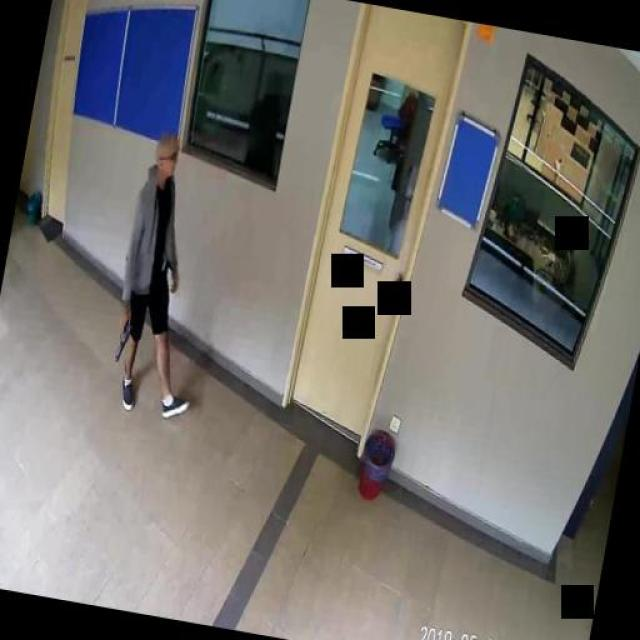gun: (110, 315, 131, 361)
